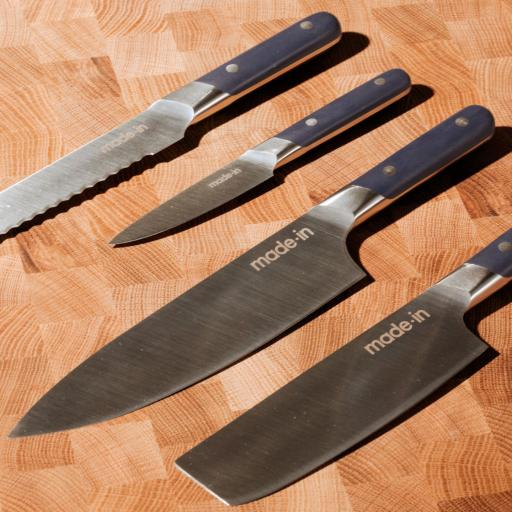knife: (7, 99, 504, 463)
